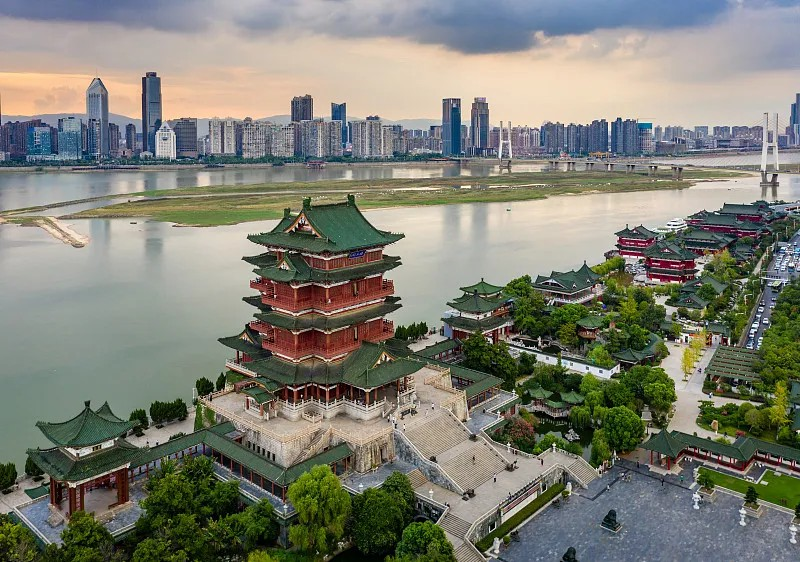Teng: (217, 193, 423, 409)
